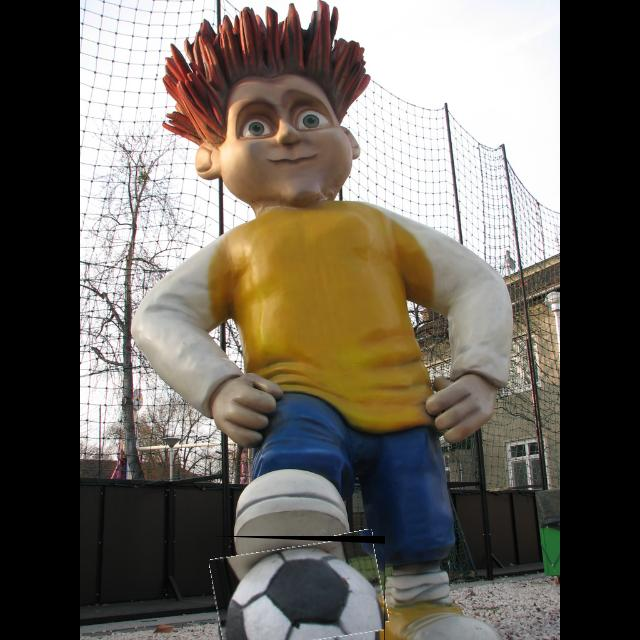Football: (212, 536, 385, 640)
